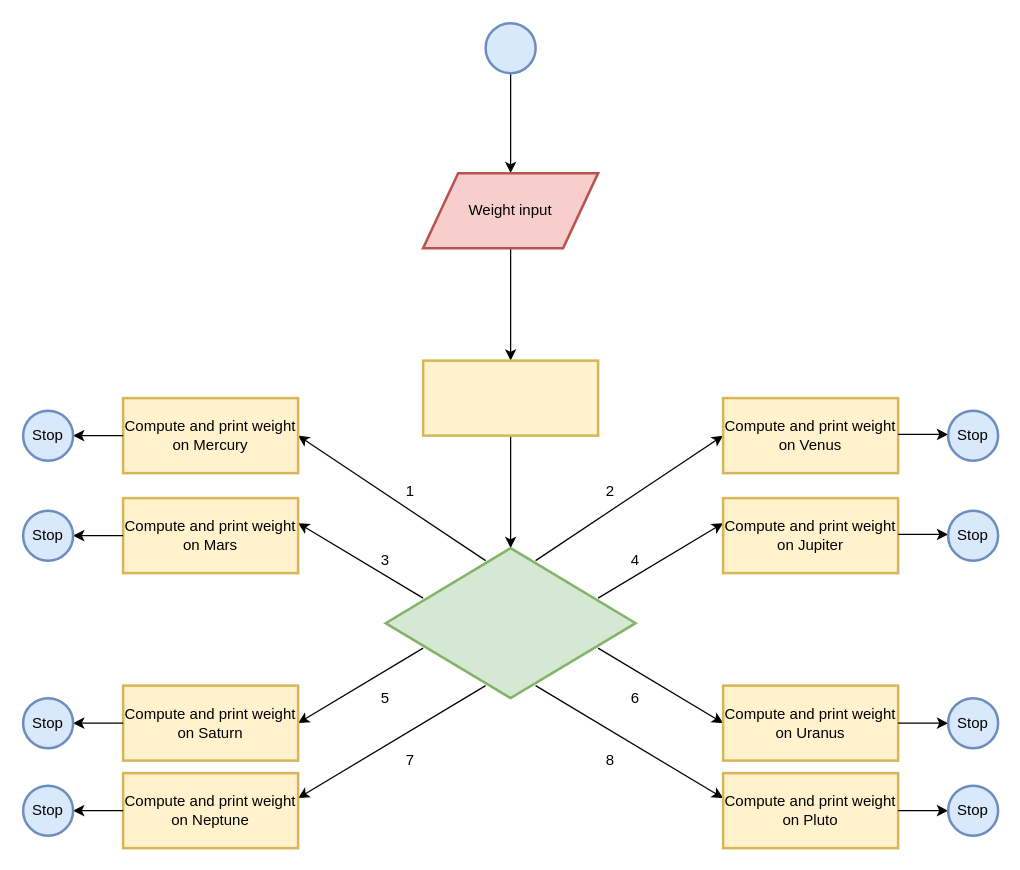
This 1020x870 diagram has some shape labels left out. The box of each missing label's shape, as (x1, y1, x2, y2) in pixels:
Choose a planet: (384, 546, 636, 699)
Compute and print mass: (421, 359, 599, 436)
Start: (484, 21, 536, 74)
